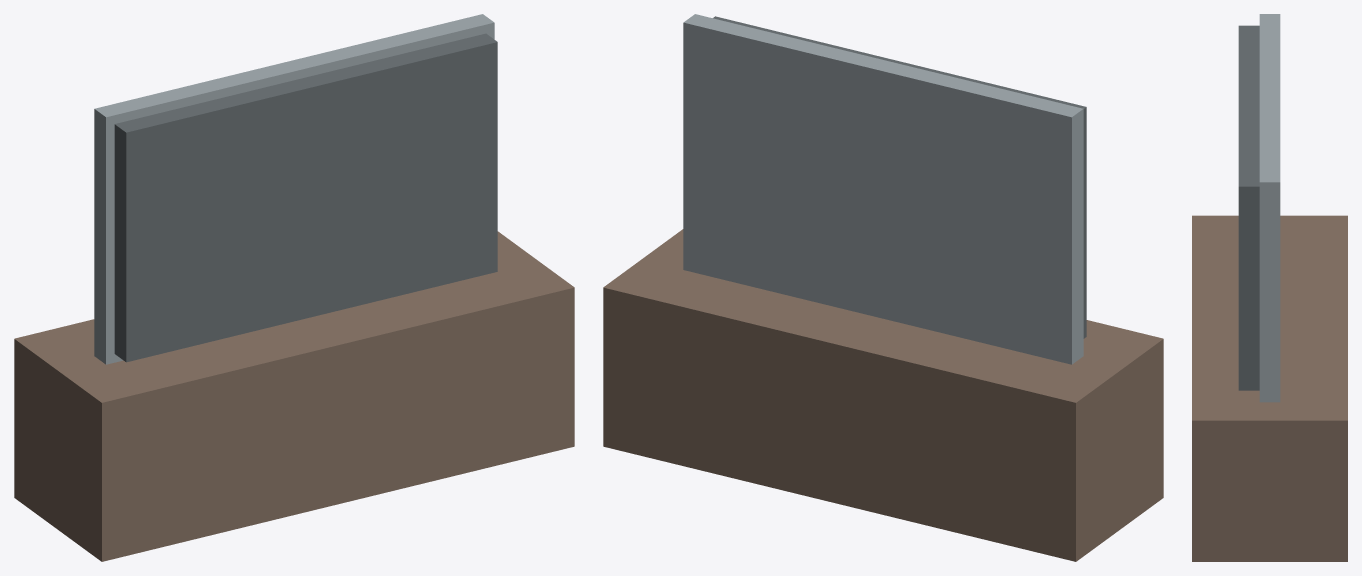
The model's file is stereo_basic.glb.
3 views of the same model, side by side, from view 1: azimuth 30°, elevation 25°; view 2: azimuth 150°, elevation 25°; view 3: azimuth 270°, elevation 25° (orthographic). The views are drawn at different scales.
Parts seen in each view (by area): view 1: p000, p001, p002; view 2: p000, p002, p001; view 3: p000, p002, p001.
Boxes of the visible parts, x1,y1,x2,y2 form: p000: [14, 231, 574, 561]; p001: [114, 33, 497, 362]; p002: [94, 14, 494, 364]; p000: [603, 229, 1163, 561]; p002: [683, 14, 1083, 364]; p001: [713, 16, 1086, 338]; p000: [1192, 215, 1347, 561]; p002: [1259, 14, 1280, 402]; p001: [1238, 25, 1259, 390].
Bounding box in the file's own units: 1.4 × 1.15 × 0.45.
